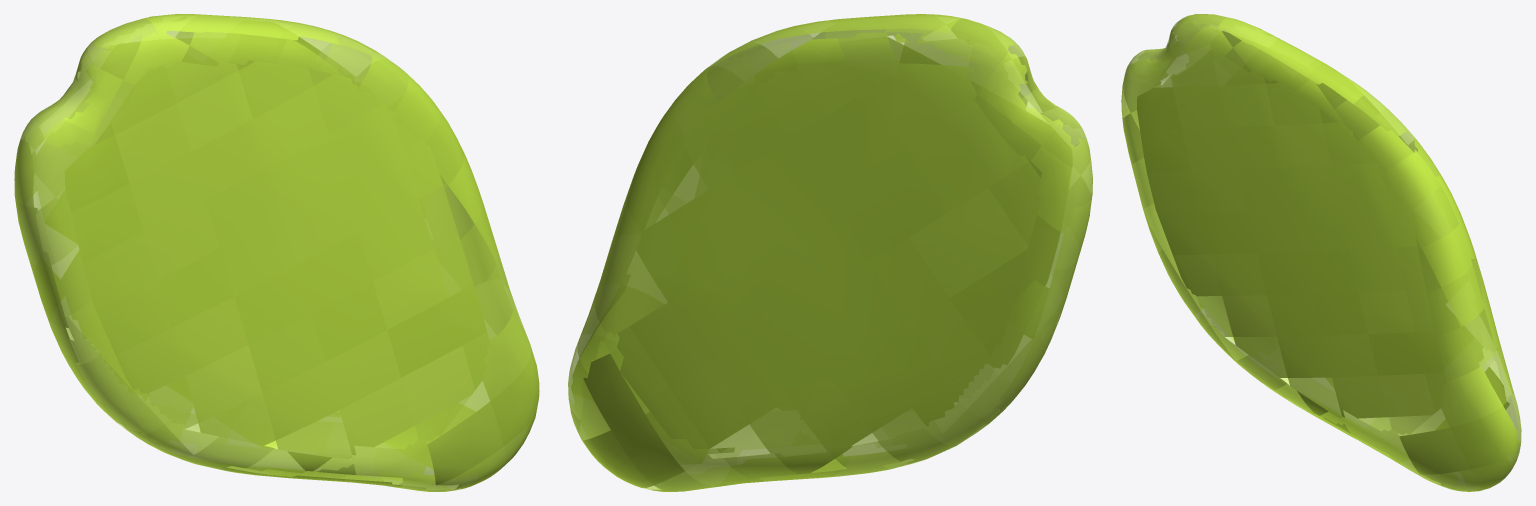
File: petal-lo-transformed.glb
The picture shows the model from 3 angles, left to right: view 1: azimuth 30°, elevation 25°; view 2: azimuth 150°, elevation 25°; view 3: azimuth 330°, elevation 25°; orthographic projection. The views are drawn at different scales.
Visible parts, largest first — view 1: Petal; view 2: Petal; view 3: Petal.
Boxes of the visible parts, left/top/right/bottom form: Petal: left=14, top=14, right=539, bottom=491; Petal: left=568, top=14, right=1092, bottom=491; Petal: left=1121, top=14, right=1521, bottom=491.
Size of the model in its own units: 19.16 by 19.17 by 3.21.
Materials: 1 (1 with a texture image).
